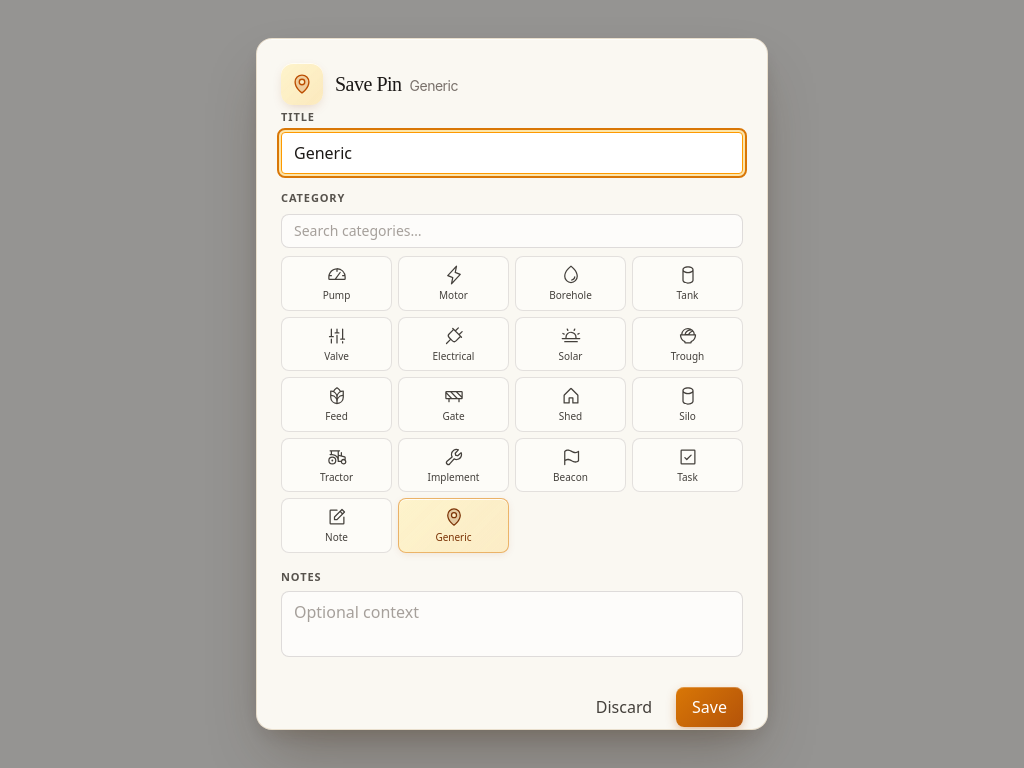
Scenario: SaveAnnotationModal › Save button disables if the user clears the title
Clear the field labelled "Title" at {"x": 512, "y": 153}, box [281,132,743,174]
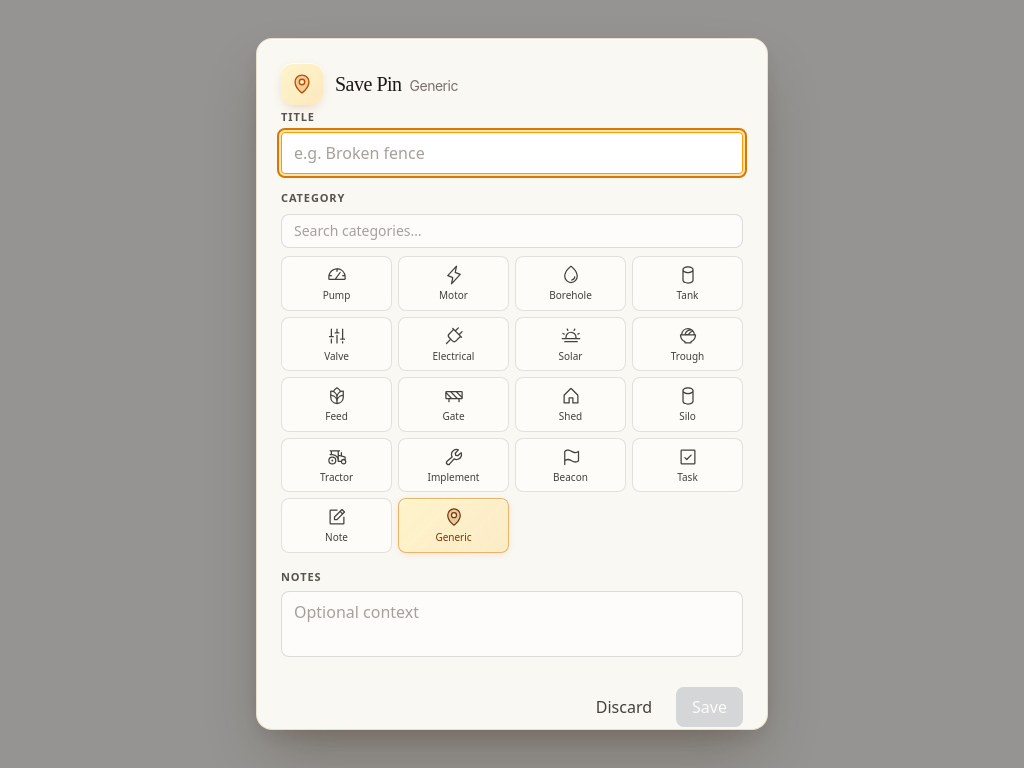
Expected: the button "Save" is disabled, [676,687,743,727]
